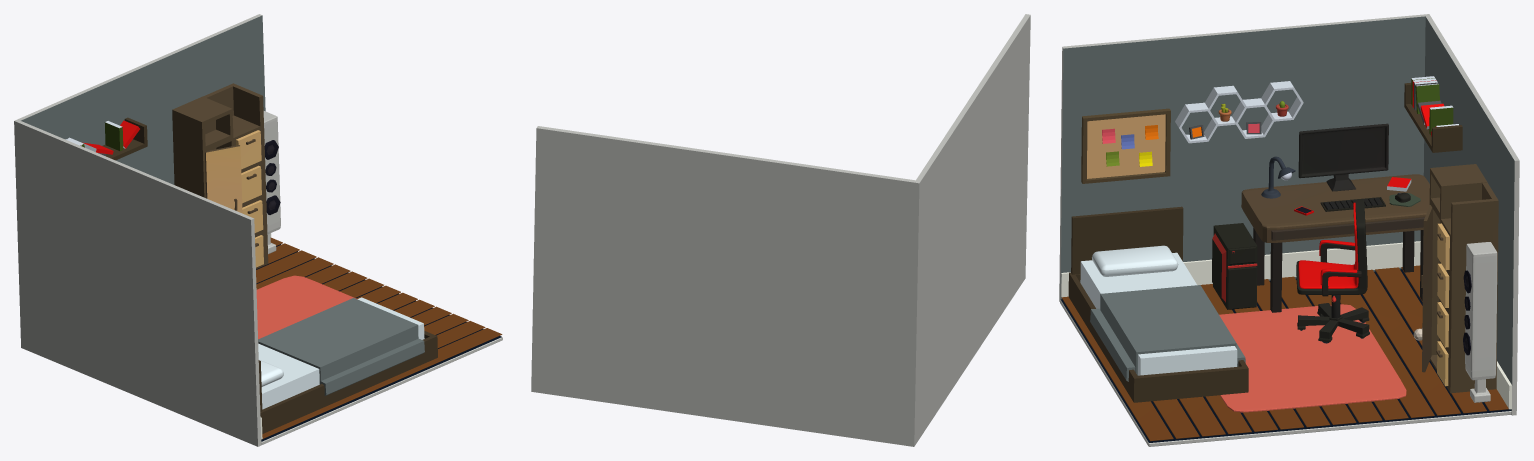
Rendered from BasicRoom.glb.
3 renders of one model, left to right at view 1: azimuth 30°, elevation 25°; view 2: azimuth 150°, elevation 25°; view 3: azimuth 270°, elevation 25°, orthographic. The views are drawn at different scales.
Parts seen in each view (by area): view 1: Cube_2, Cube.022_12, Cube.015_9, Plane.001_1, Cube.014_8, Cube.016_10, Plane.003_45, Cube.031_27, Cube.032_29, Plane_0, Cylinder.008_28, Cube.004_6; view 2: Cube_2; view 3: Cube_2, Cube.022_12, Plane.001_1, Cube.014_8, Cube.015_9, Cube.001_3, Cube.024_14, Cube.025_16, Cube.031_27, Cube.013_7, Cube.029_25, Plane.003_45 (+16 smaller).
Boxes of the visible parts, <box> form: Cube_2: <box>14,14,265,446</box>; Cube.022_12: <box>258,297,437,433</box>; Cube.015_9: <box>172,83,268,268</box>; Plane.001_1: <box>256,237,502,439</box>; Cube.014_8: <box>256,275,357,339</box>; Cube.016_10: <box>205,145,242,213</box>; Plane.003_45: <box>256,244,501,441</box>; Cube.031_27: <box>263,111,280,254</box>; Cube.032_29: <box>65,120,139,156</box>; Plane_0: <box>261,337,502,444</box>; Cylinder.008_28: <box>264,140,280,214</box>; Cube.004_6: <box>102,117,147,160</box>; Cube_2: <box>531,14,1030,446</box>; Cube_2: <box>1059,14,1519,415</box>; Cube.022_12: <box>1068,206,1248,402</box>; Plane.001_1: <box>1061,265,1508,441</box>; Cube.014_8: <box>1219,304,1406,412</box>; Cube.015_9: <box>1429,164,1498,393</box>; Cube.001_3: <box>1241,174,1429,242</box>; Cube.024_14: <box>1081,108,1170,183</box>; Cube.025_16: <box>1298,123,1388,191</box>; Cube.031_27: <box>1465,242,1497,402</box>; Cube.013_7: <box>1061,241,1511,409</box>; Cube.029_25: <box>1212,223,1257,309</box>; Plane.003_45: <box>1060,269,1511,442</box>.
Size of the model in its own units: 9.96 by 6.16 by 9.91.
Materials: 45 (44 with a texture image).
